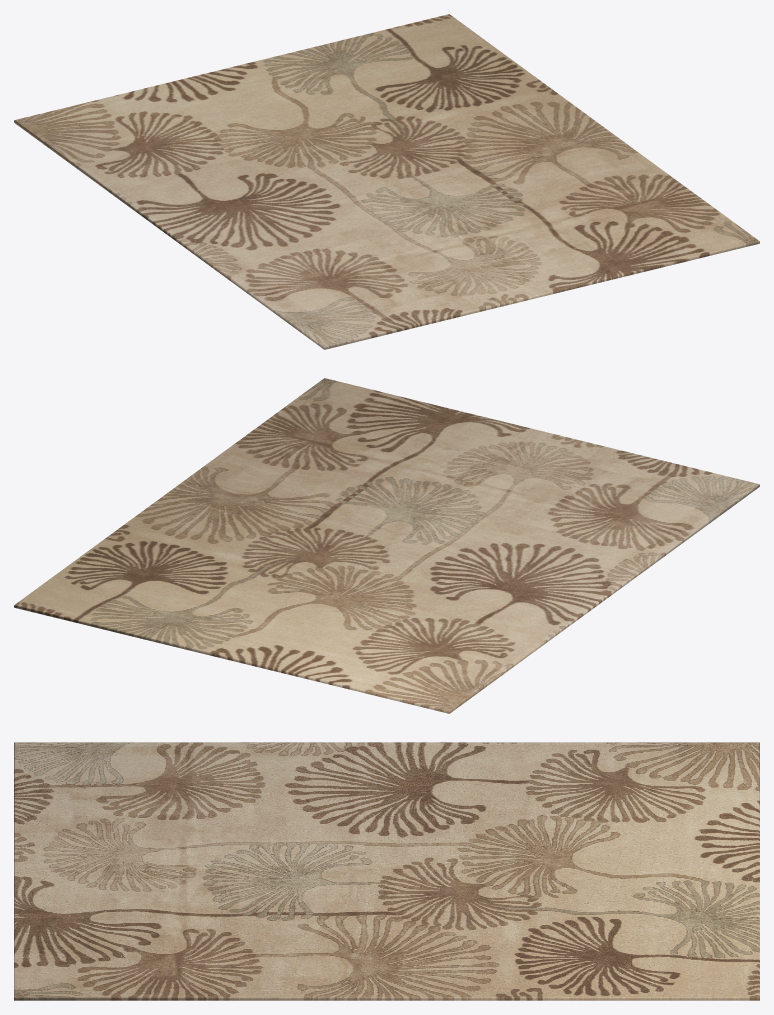
The model's file is rug-prayer-area.glb.
The picture shows the model from 3 angles, top to bottom: view 1: azimuth 30°, elevation 25°; view 2: azimuth 150°, elevation 25°; view 3: azimuth 270°, elevation 25°; orthographic projection. The views are drawn at different scales.
Parts seen in each view (by area): view 1: C-Component#1; view 2: C-Component#1; view 3: C-Component#1.
Boxes of the visible parts, x1=… form: C-Component#1: x1=14, y1=14, x2=759, y2=349; C-Component#1: x1=14, y1=378, x2=759, y2=713; C-Component#1: x1=14, y1=742, x2=759, y2=1000.
Size of the model in its own units: 2.43 by 0.015 by 3.
Materials: 1 (1 with a texture image).
